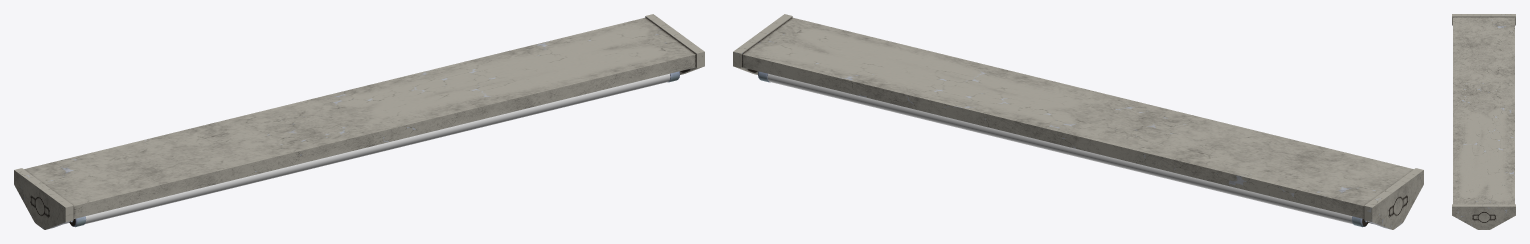
The model's file is ceiling_lamp.fbx.
3 views of the same model, side by side, from view 1: azimuth 30°, elevation 25°; view 2: azimuth 150°, elevation 25°; view 3: azimuth 270°, elevation 25° (orthographic). The views are drawn at different scales.
Visible parts, largest first — view 1: Cube.001, Symmetry_1; view 2: Cube.001, Symmetry_1; view 3: Cube.001.
Part boxes in pixels (x1=…): Cube.001: x1=14, y1=14, x2=704, y2=229; Symmetry_1: x1=69, y1=71, x2=679, y2=227; Cube.001: x1=733, y1=14, x2=1423, y2=229; Symmetry_1: x1=758, y1=71, x2=1368, y2=227; Cube.001: x1=1452, y1=14, x2=1515, y2=229.
Bounding box in the file's own units: 150 × 8.48 × 20.96.
